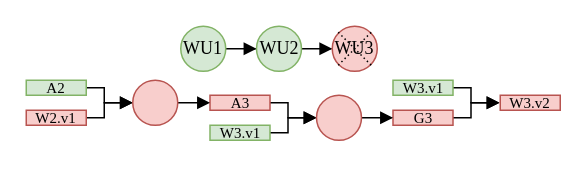
This 587x186 diagram has some shape labels left out. The shapes that lost their labels are listed below. From the top down, each one's centre as x and y in pixels, then its label:
At point 154,102: "FP3".
At point 338,117: "BP3".
